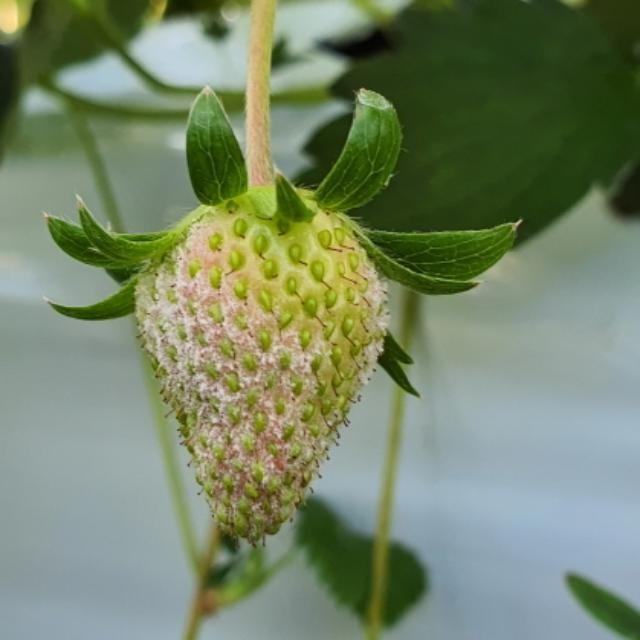Powdery Mildew Fruit: (132, 191, 390, 544)
